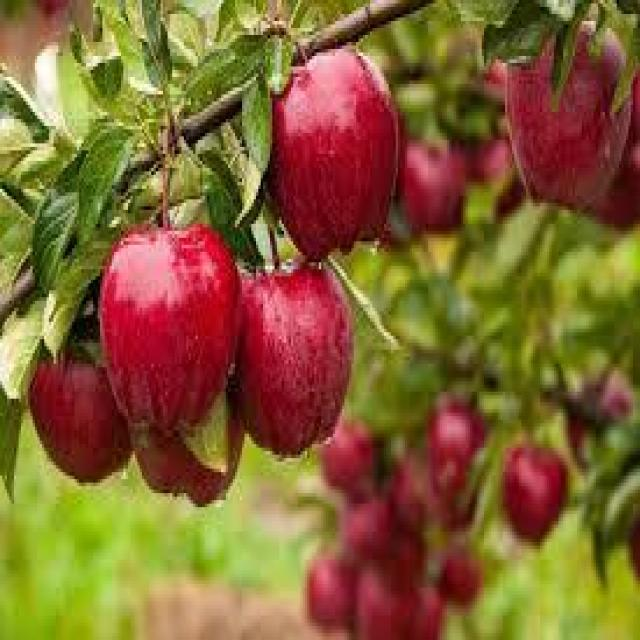fruit: (100, 222, 239, 444), (271, 46, 401, 257), (498, 18, 632, 205), (235, 262, 352, 458), (26, 301, 132, 484), (434, 23, 510, 142), (426, 396, 495, 527), (563, 363, 633, 459), (502, 440, 568, 541), (314, 415, 383, 507), (400, 139, 467, 232), (588, 126, 640, 230), (371, 514, 427, 594), (344, 494, 399, 564), (308, 552, 356, 630), (391, 457, 434, 534), (436, 544, 484, 607), (473, 134, 515, 189), (409, 587, 445, 639)
